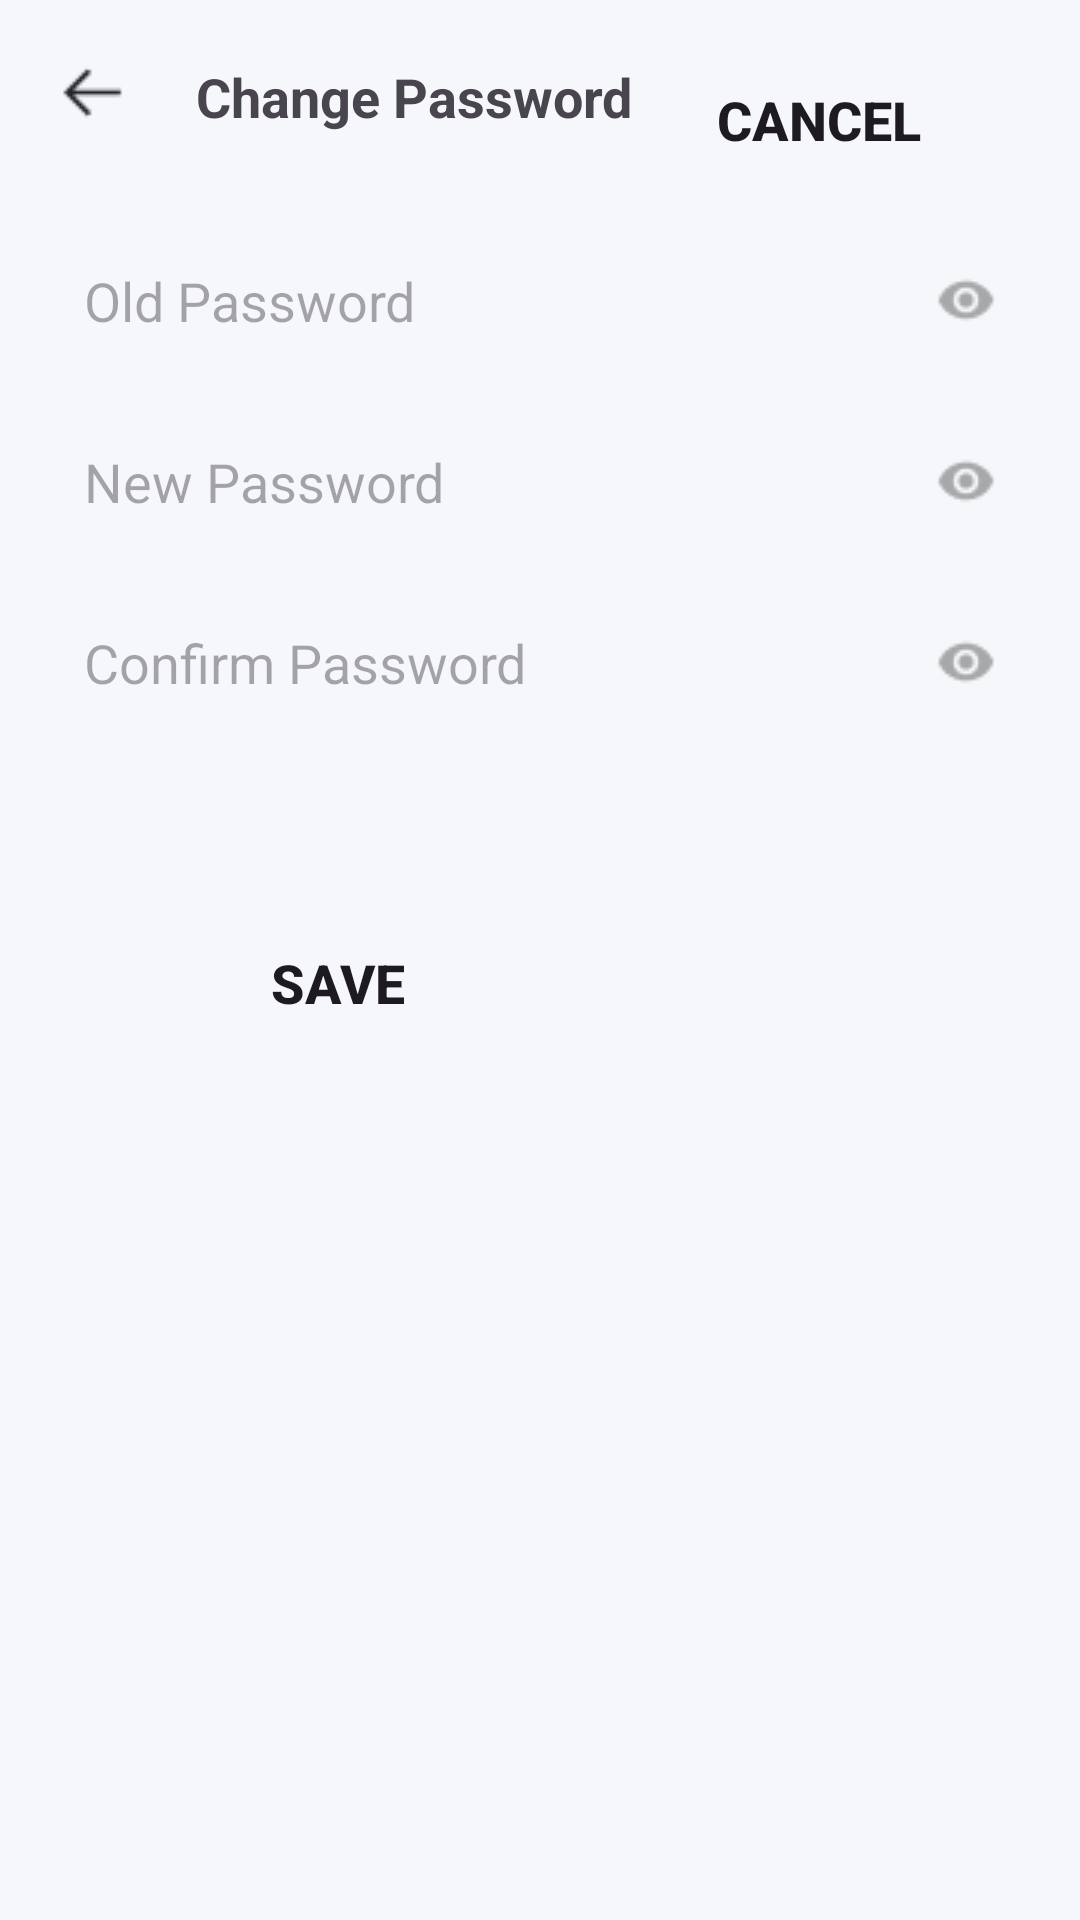

Where icons sit on this 1080 × 1920 app screen, as (x1, y1, x2, y2):
carbon arrow: (63, 69, 122, 117)
